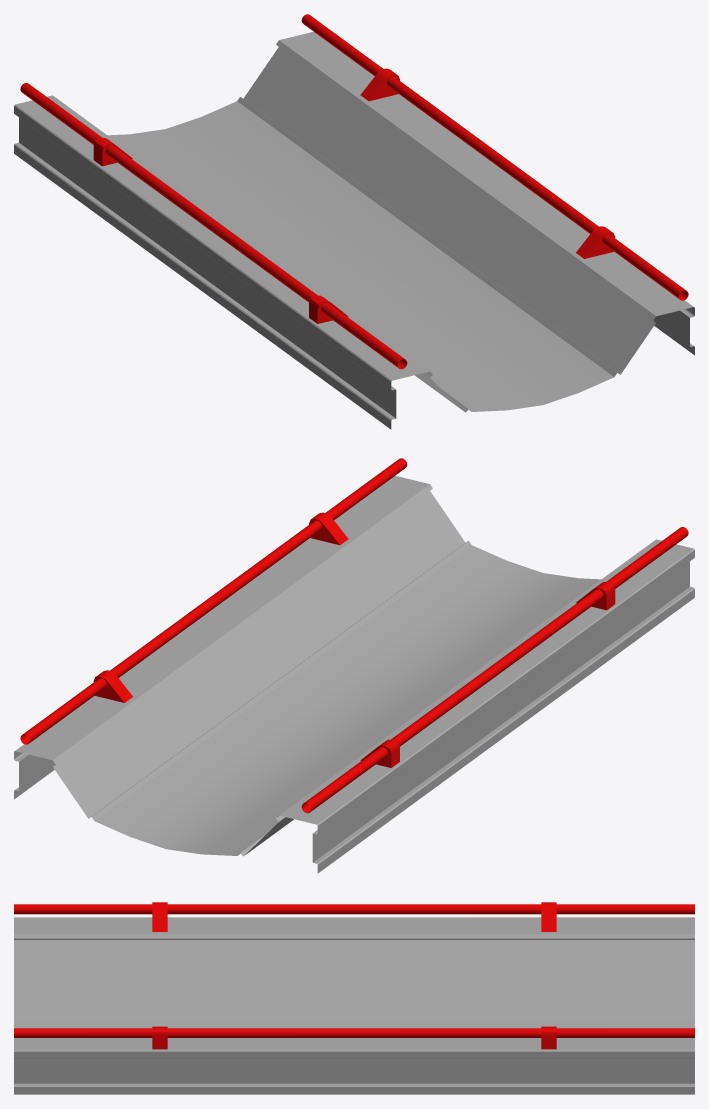
File: top.fbx
The picture shows the model from 3 angles, top to bottom: view 1: azimuth 30°, elevation 25°; view 2: azimuth 150°, elevation 25°; view 3: azimuth 270°, elevation 25°; orthographic projection. The views are drawn at different scales.
Parts seen in each view (by area): view 1: default1; view 2: default1; view 3: default1.
Boxes of the visible parts, x1=… form: default1: x1=14, y1=14, x2=694, y2=429; default1: x1=14, y1=458, x2=694, y2=873; default1: x1=14, y1=902, x2=694, y2=1094.
Size of the model in its own units: 279 by 71.59 by 600.
